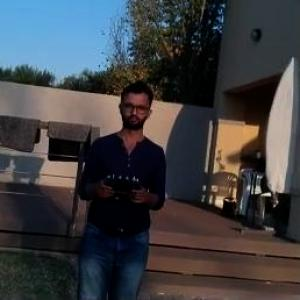follow: (70, 74, 172, 299)
